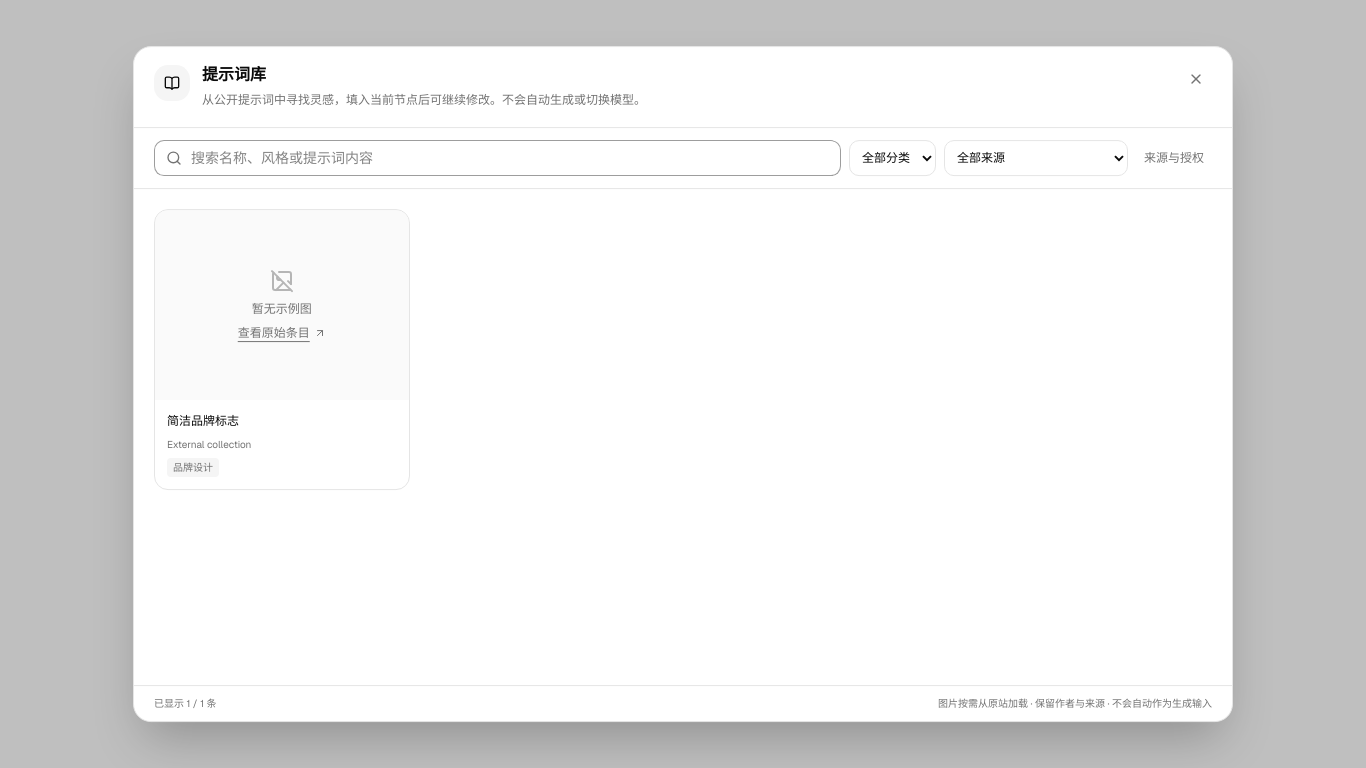
Test: prompt library dialog › treats link-only sources as links, including a malformed item in such a source
The image size is (1366, 768).
Step 1. Click the button "简洁品牌标志 External collection 品牌设计" → (282, 444), box x1=155 y1=400 x2=408 y2=489
(page scrolled)
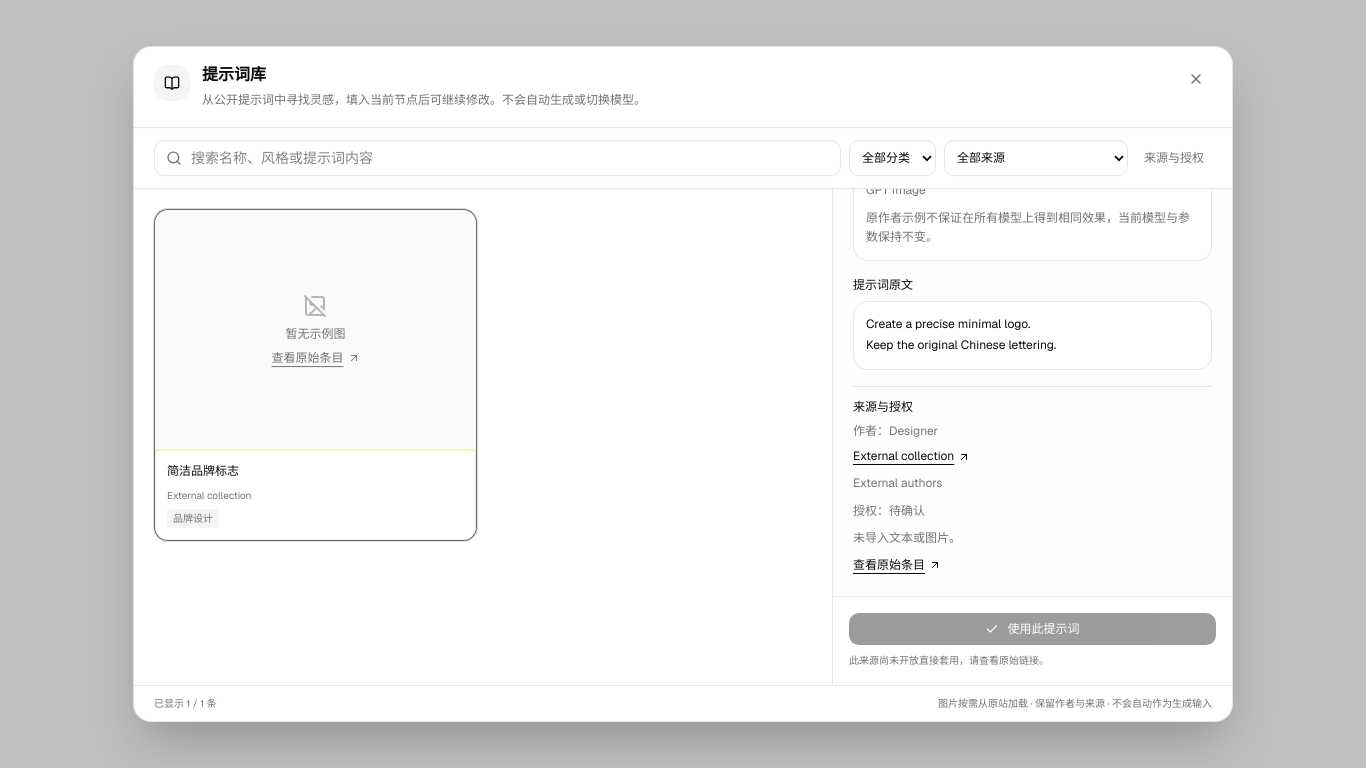
Result: the button "使用此提示词" is disabled at x1=849 y1=613 x2=1216 y2=645
Result: the link "External collection" is shown at x1=853 y1=447 x2=970 y2=466
